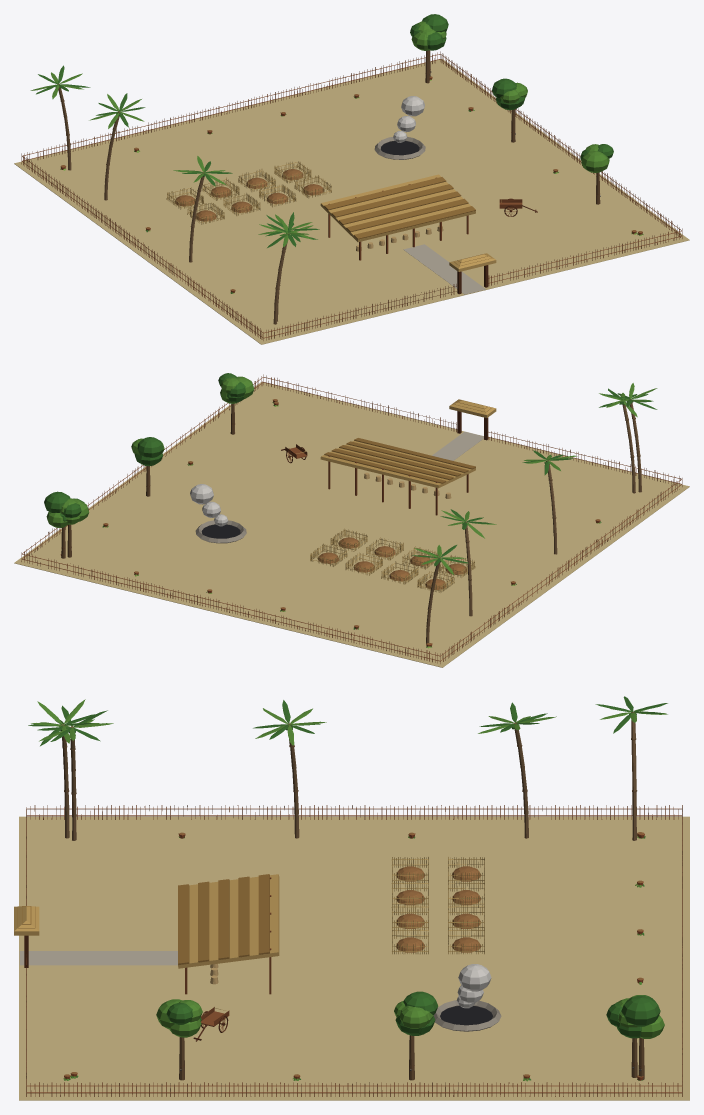
The model's file is waste.glb.
The picture shows the model from 3 angles, top to bottom: view 1: azimuth 30°, elevation 25°; view 2: azimuth 150°, elevation 25°; view 3: azimuth 270°, elevation 25°; orthographic projection. The views are drawn at different scales.
Visible parts, largest first — view 1: body; view 2: body; view 3: body.
Part boxes in pixels (box(x1,y1,x2,y2)): body: box(14, 14, 689, 344); body: box(14, 373, 689, 667); body: box(14, 696, 689, 1100).
Bounding box in the file's own units: 48.23 × 10.82 × 48.25.
